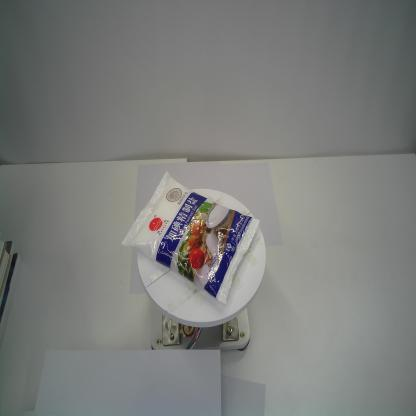Seasoner: (121, 170, 260, 306)
